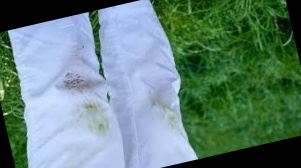earth: (151, 92, 177, 130), (80, 101, 109, 134), (60, 69, 87, 92)
